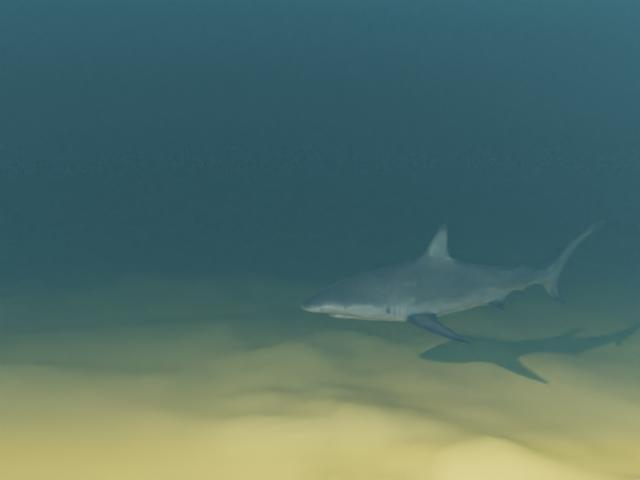Carribean Shark.001: (300, 219, 607, 345)
